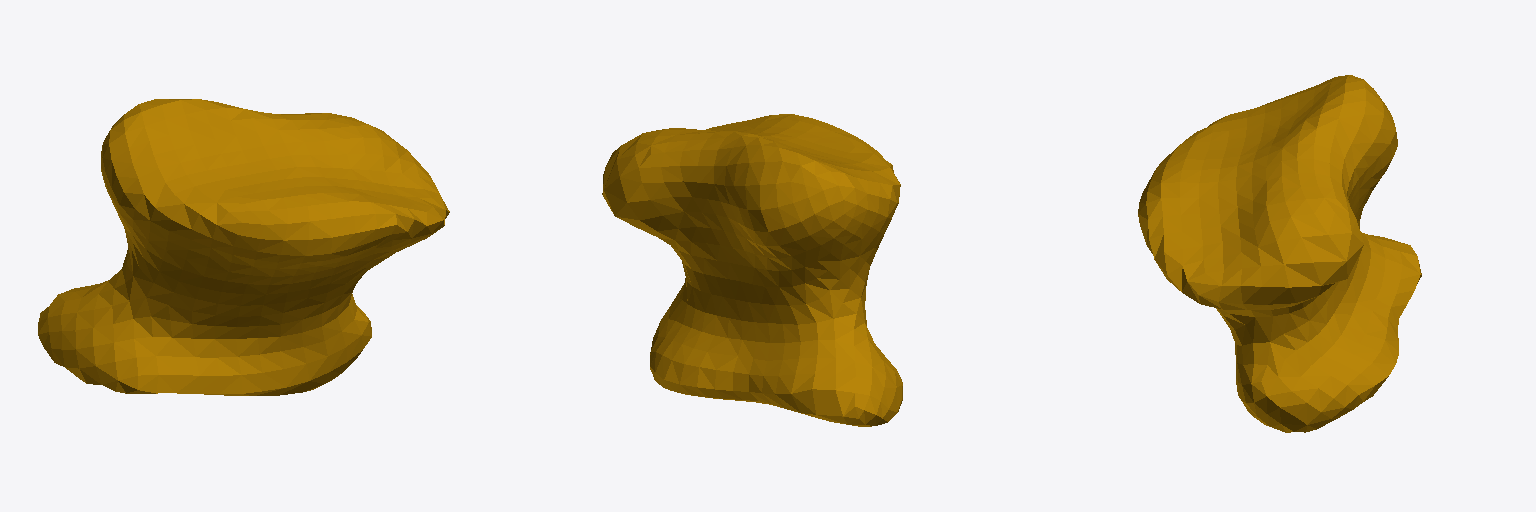
The model's file is MiddlePhalanx_3.obj.
3 views of the same model, side by side, from view 1: azimuth 30°, elevation 25°; view 2: azimuth 150°, elevation 25°; view 3: azimuth 270°, elevation 25° (orthographic).
Visible parts, largest first — view 1: Object_0MiddlePhalanx_3; view 2: Object_0MiddlePhalanx_3; view 3: Object_0MiddlePhalanx_3.
Boxes of the visible parts, <box> form: Object_0MiddlePhalanx_3: <box>38,99,449,395</box>; Object_0MiddlePhalanx_3: <box>602,114,902,426</box>; Object_0MiddlePhalanx_3: <box>1138,75,1421,432</box>.
Bounding box in the file's own units: 10.87 × 9.06 × 8.17.